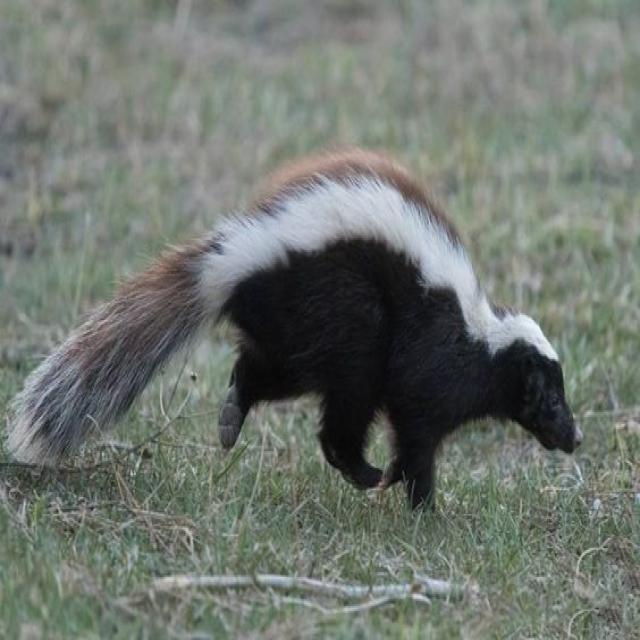Skunk: (0, 138, 599, 511)
